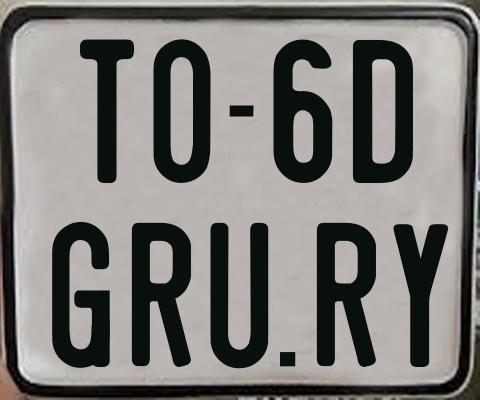0: (151, 39, 211, 183)
6: (273, 38, 338, 187)
D: (350, 40, 413, 185)
G: (51, 220, 112, 371)
R: (131, 222, 195, 372), (314, 222, 374, 371)
T: (80, 39, 136, 188)
U: (210, 221, 274, 372)
Y: (391, 222, 452, 365)
